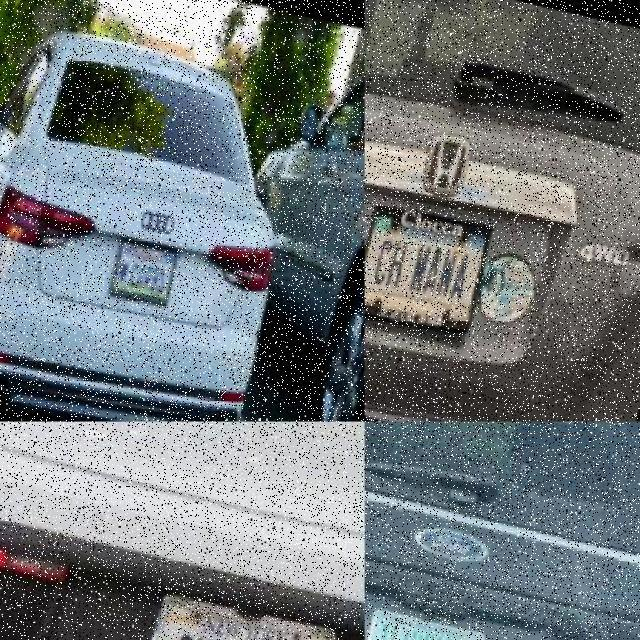LicensePlate: (364, 205, 492, 336), (151, 594, 339, 639), (109, 239, 180, 313), (366, 608, 487, 639)
